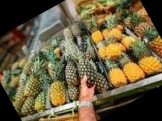Pineapple: (49, 60, 67, 106), (118, 53, 145, 82)
